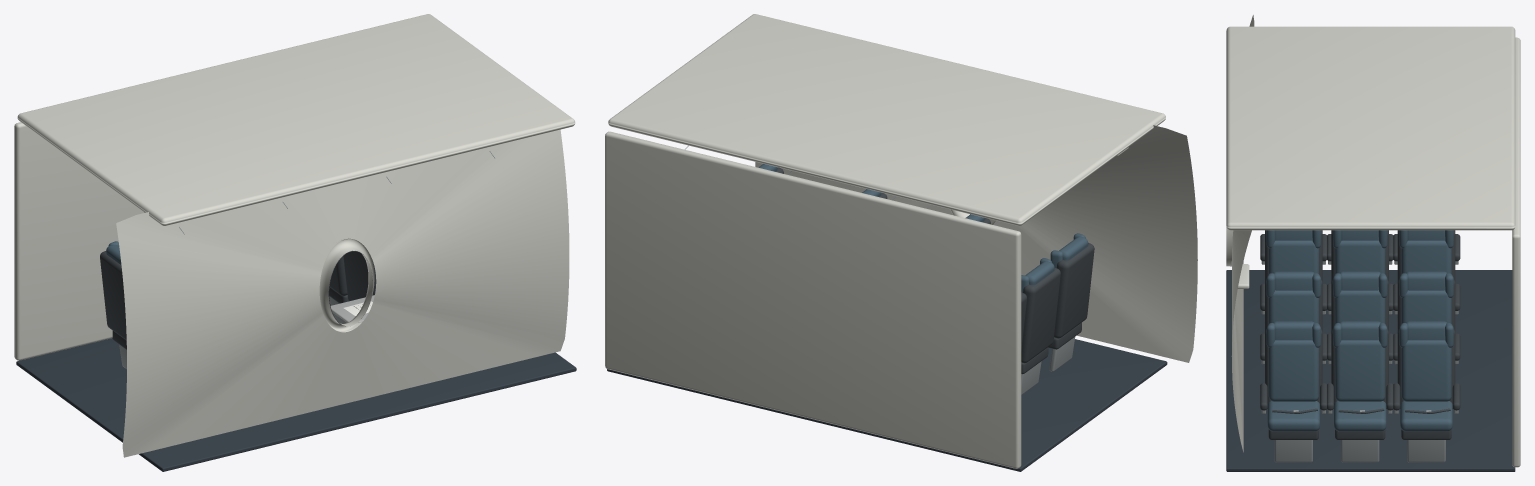
File: TNES_AircraftCabin.fbx
3 views of the same model, side by side, from view 1: azimuth 30°, elevation 25°; view 2: azimuth 150°, elevation 25°; view 3: azimuth 270°, elevation 25° (orthographic).
Visible parts, largest first — view 1: SM_TNES_AircraftCabin; view 2: SM_TNES_AircraftCabin; view 3: SM_TNES_AircraftCabin.
Boxes of the visible parts, box(x1,y1,x2,y2) form: SM_TNES_AircraftCabin: box(14, 14, 576, 471); SM_TNES_AircraftCabin: box(605, 14, 1197, 471); SM_TNES_AircraftCabin: box(1226, 15, 1520, 471).
Bounding box in the file's own units: 484 × 275 × 256.
